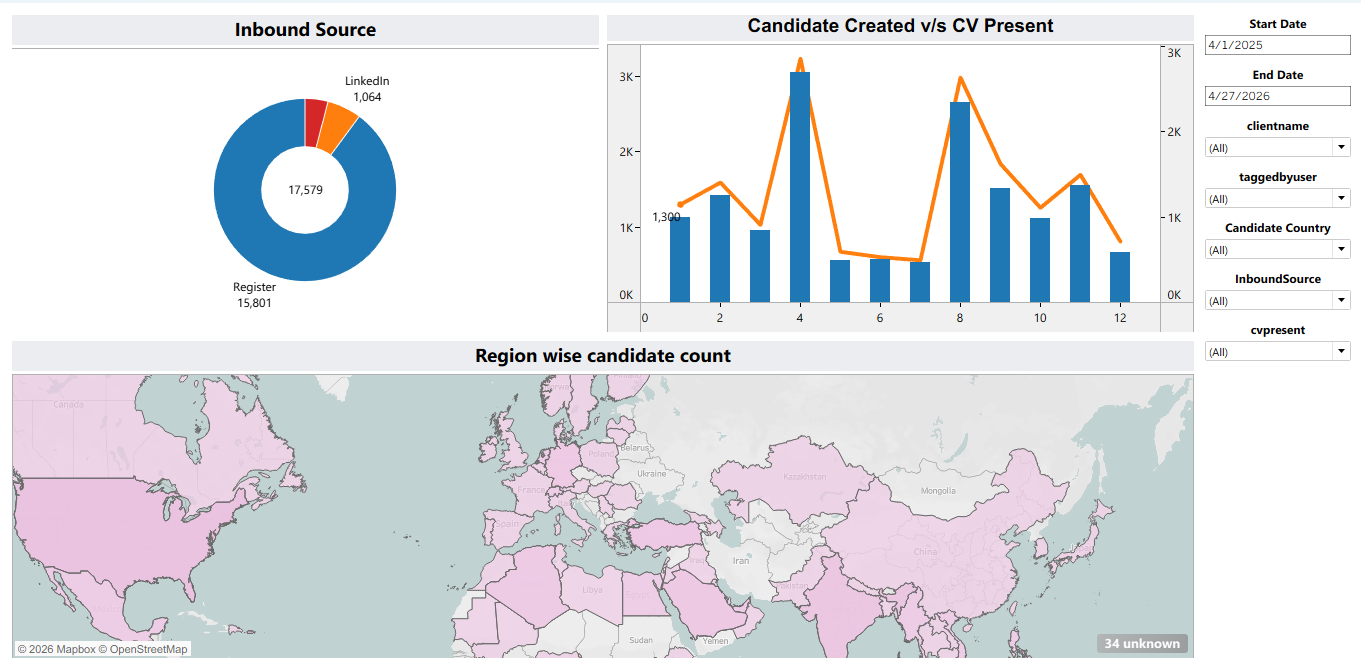

This screenshot's page, from the dashboard's own definition file:
{"tool":"tableau","page":{"name":"Dashboard 3","canvas":[1000,1000],"units":"permille","ordinal":2},"visuals":[{"type":"worksheet","title":"Inbound Source","mark":"Pie","rows":["Calculation_1349714499825667","Calculation_1349714499825667"],"box":[6.9,13.7,423.8,486.3]},{"type":"worksheet","title":"Cvpresent vs total candidates","mark":"Automatic","rows":["candidateid","Calculation_1718874462052353"],"cols":["candidatecreatedon"],"box":[430.7,13.7,423.8,486.3]},{"type":"parameter","param":"[Parameters].[Parameter 1]","box":[854.5,13.7,138.5,87.3]},{"type":"parameter","param":"[Parameters].[Parameter 2]","box":[854.5,101,138.5,87.3]},{"type":"filter","title":"Cvpresent vs total candidates","param":"[sqlproxy.1h776nu17bqfv21fgzwo31el5dya].[none:clientname:nk]","box":[854.5,188.4,138.5,87.3]},{"type":"filter","title":"Cvpresent vs total candidates","param":"[sqlproxy.1h776nu17bqfv21fgzwo31el5dya].[none:taggedbyuser:nk]","box":[854.5,275.7,138.5,87.3]},{"type":"filter","title":"Cvpresent vs total candidates","param":"[sqlproxy.1h776nu17bqfv21fgzwo31el5dya].[none:Calculation_1349714405203968:nk]","box":[854.5,363,138.5,87.3]},{"type":"filter","title":"Cvpresent vs total candidates","param":"[sqlproxy.1h776nu17bqfv21fgzwo31el5dya].[none:Calculation_1349714412871681:nk]","box":[854.5,450.4,138.5,87.3]},{"type":"worksheet","title":"Region wise candidate count","mark":"Automatic","box":[6.9,500,847.6,486.3]},{"type":"filter","title":"Cvpresent vs total candidates","param":"[sqlproxy.1h776nu17bqfv21fgzwo31el5dya].[none:cvpresent:nk]","box":[854.5,537.7,138.5,87.3]}]}

Visuals, with their boxes on the dashboard's canvas, which has no fixed pixel size, in thousandths of its width and height (x1, y1, x2, y2). These are canvas units, not pixel positions in the 1361x667 screenshot, which may show the page scaled, cropped or inside an application window:
"Inbound Source" worksheet (Pie marks): bbox(7, 14, 431, 500)
"Cvpresent vs total candidates" worksheet: bbox(431, 14, 854, 500)
parameter: bbox(854, 14, 993, 101)
parameter: bbox(854, 101, 993, 188)
"Cvpresent vs total candidates" filter: bbox(854, 188, 993, 276)
"Cvpresent vs total candidates" filter: bbox(854, 276, 993, 363)
"Cvpresent vs total candidates" filter: bbox(854, 363, 993, 450)
"Cvpresent vs total candidates" filter: bbox(854, 450, 993, 538)
"Region wise candidate count" worksheet: bbox(7, 500, 854, 986)
"Cvpresent vs total candidates" filter: bbox(854, 538, 993, 625)
